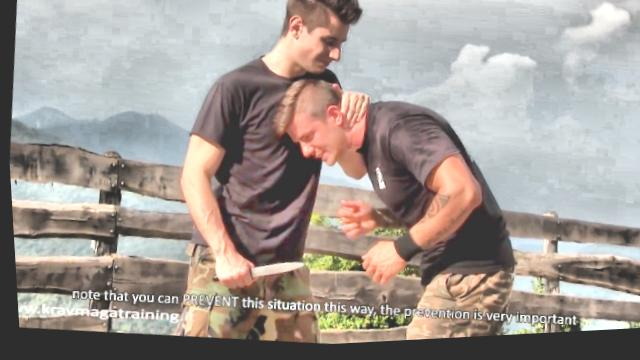knife: (202, 251, 310, 302)
